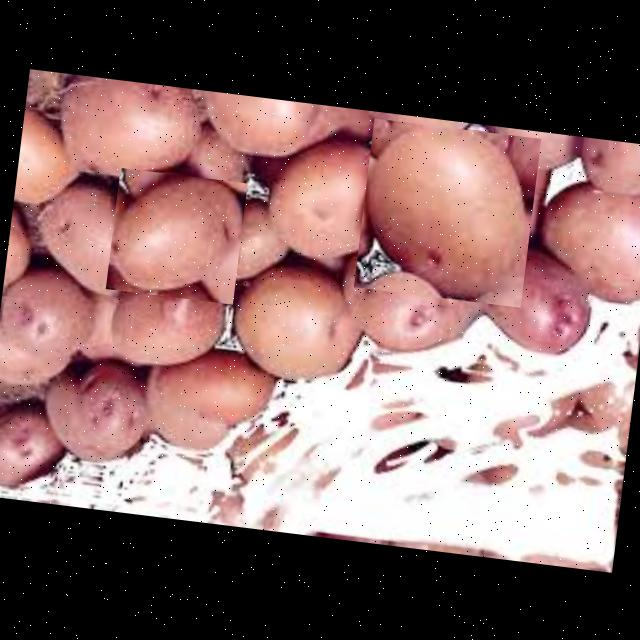Defected potato: (352, 117, 540, 306), (105, 166, 246, 303), (228, 258, 368, 389), (0, 260, 105, 364)
